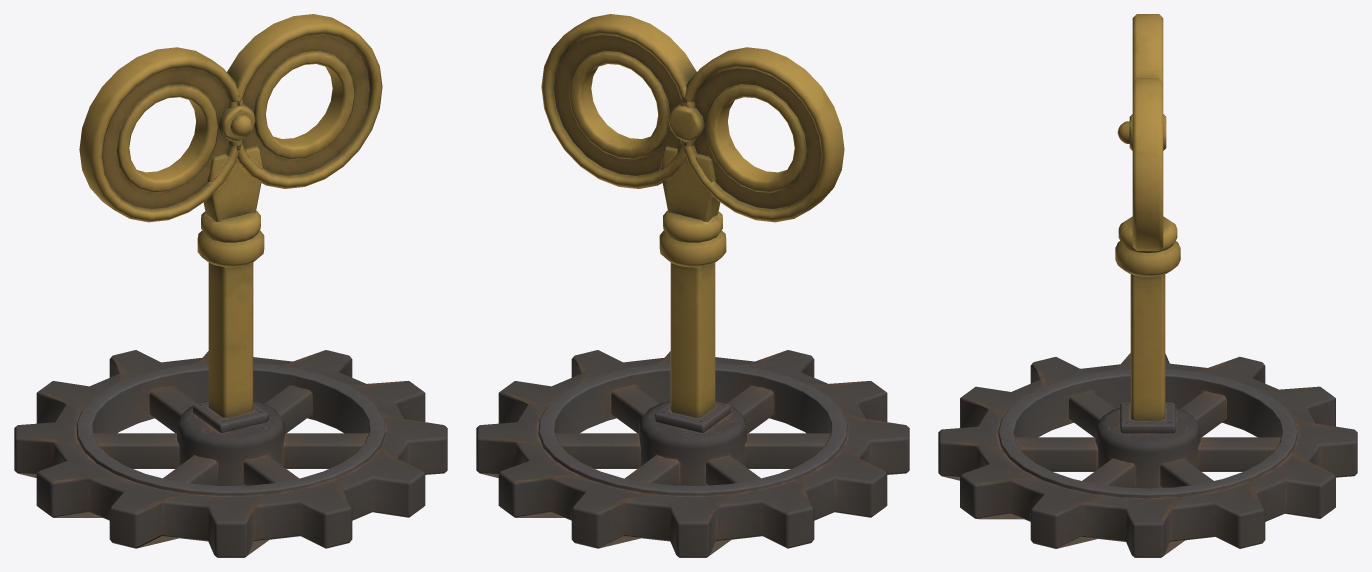
Rendered from wind-up-key.hq.glb.
3 renders of one model, left to right at view 1: azimuth 30°, elevation 25°; view 2: azimuth 150°, elevation 25°; view 3: azimuth 270°, elevation 25°, orthographic. The views are drawn at different scales.
Parts seen in each view (by area): view 1: wind-up-key; view 2: wind-up-key; view 3: wind-up-key.
Part boxes in pixels (bbox=[...]): wind-up-key: bbox=[14, 14, 447, 557]; wind-up-key: bbox=[476, 14, 909, 557]; wind-up-key: bbox=[938, 14, 1357, 557].
Bounding box in the file's own units: 0.7978 × 0.875 × 0.7978.
Materials: 1 (1 with a texture image).
